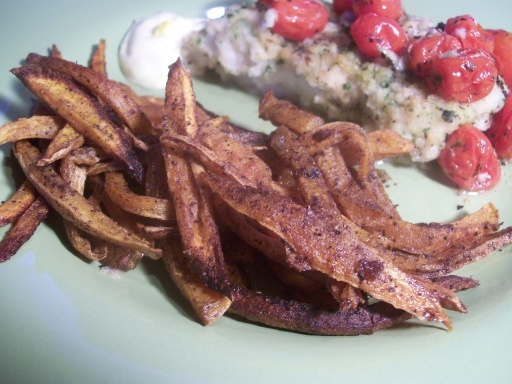background: (0, 0, 410, 202)
